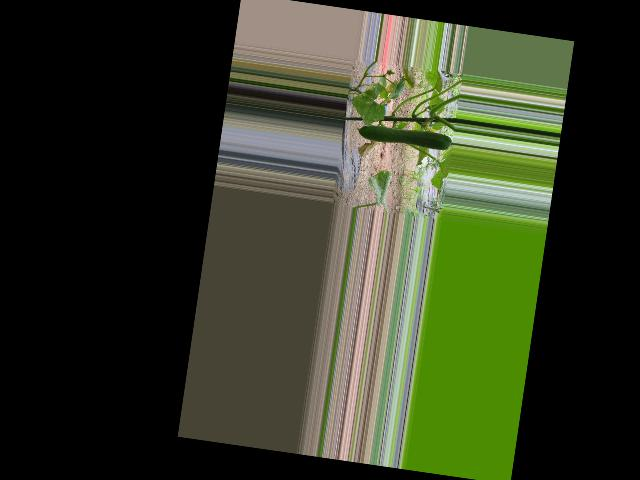cucumber: (354, 121, 452, 152)
